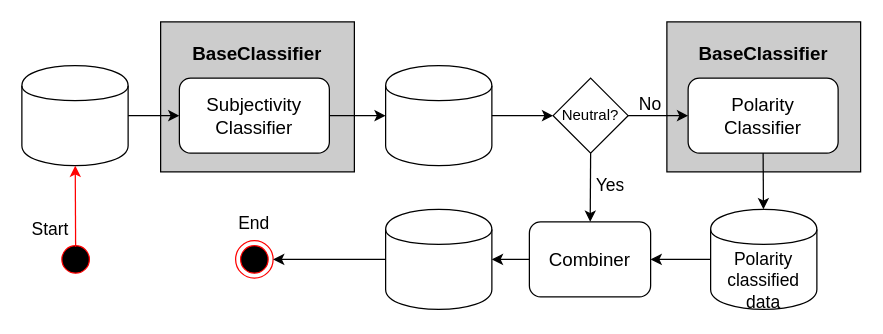
This 883x334 diagram has some shape labels left out. Each missing label, with the centre of its shape:
"Classified data" belongs at point 438,258.
"Subjectivity classified data" belongs at point 438,115.
"Unclassifed data" belongs at point 74,115.
